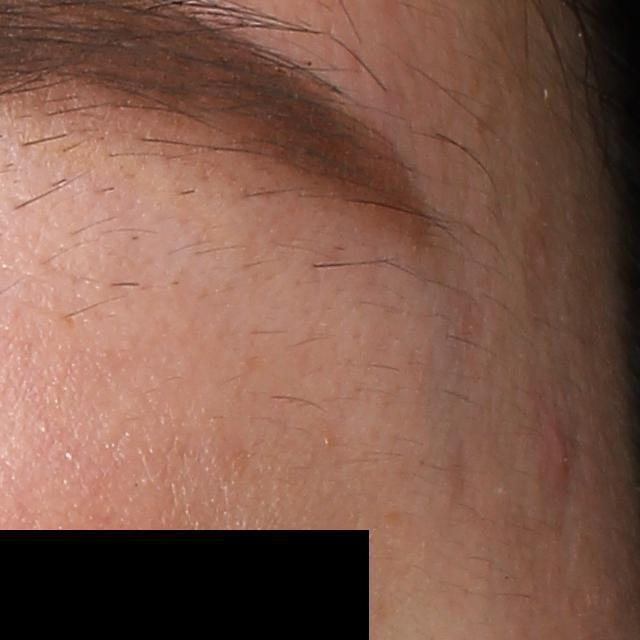papule: (548, 427, 572, 490)
